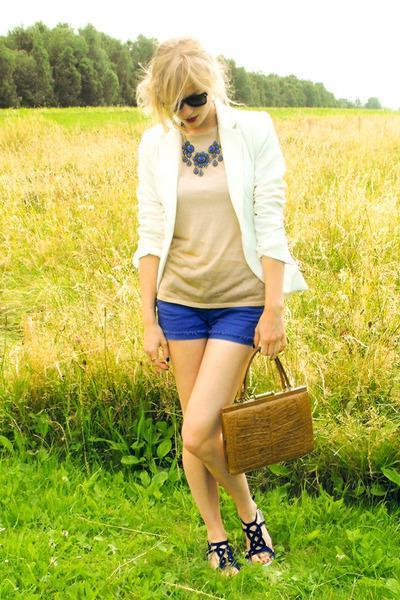Shorts: (154, 292, 272, 350)
jacket: (127, 103, 310, 298)
short sleeve shirt: (155, 123, 268, 311)
